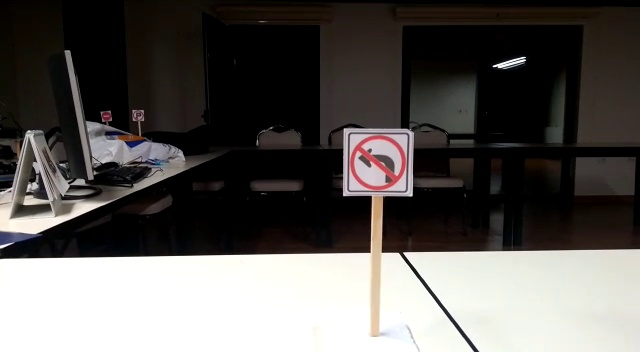sola_donulmez: (352, 136, 407, 186)
